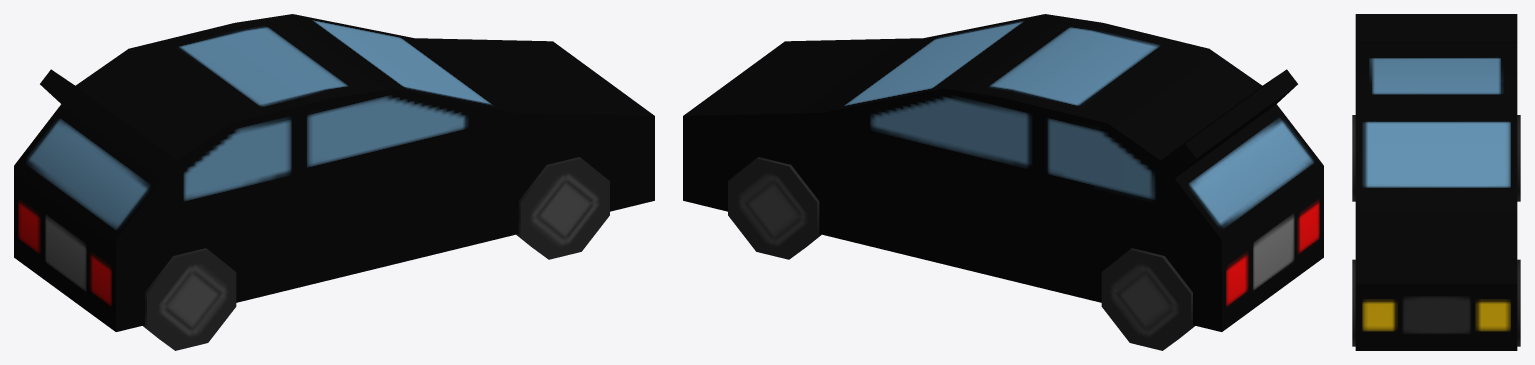
The model's file is Car04.glb.
3 views of the same model, side by side, from view 1: azimuth 30°, elevation 25°; view 2: azimuth 150°, elevation 25°; view 3: azimuth 270°, elevation 25° (orthographic). The views are drawn at different scales.
Parts seen in each view (by area): view 1: Car04; view 2: Car04; view 3: Car04.
Part boxes in pixels (bbox=[...]): Car04: bbox=[14, 14, 654, 350]; Car04: bbox=[683, 14, 1323, 350]; Car04: bbox=[1352, 14, 1520, 350].
Size of what is drawn, in the model's own units: 3.91 by 1.47 by 1.33.
Materials: 1 (1 with a texture image).
